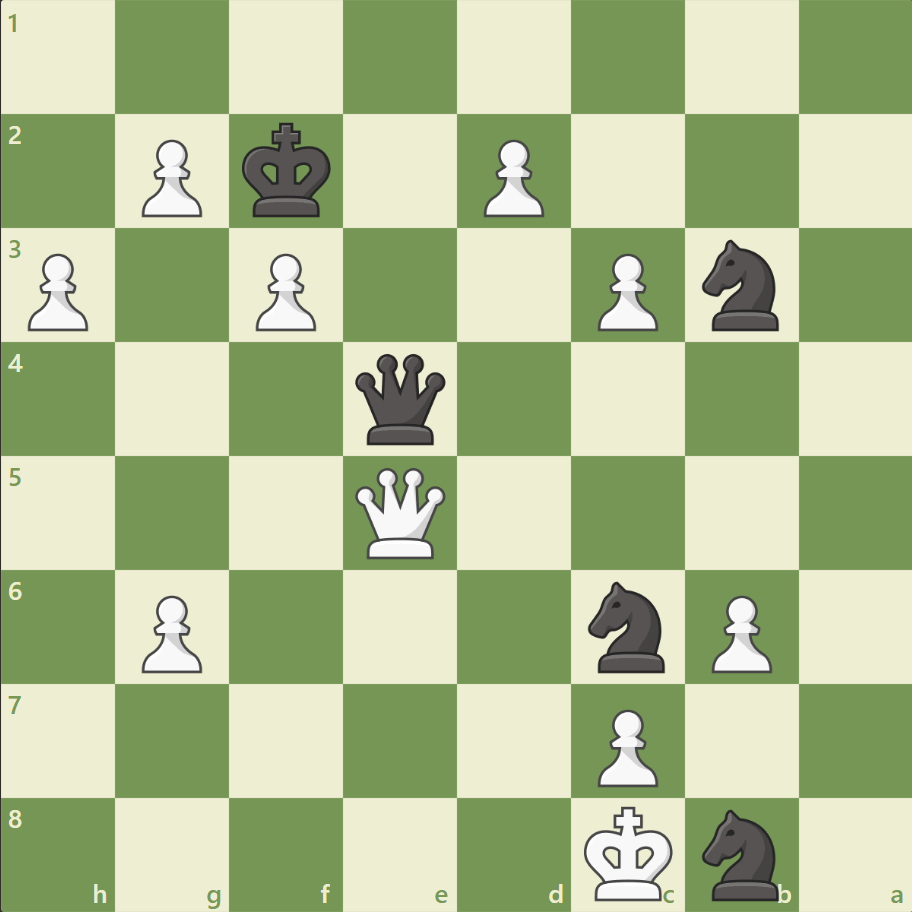K: (579, 798, 679, 906)
P: (701, 586, 776, 677), (133, 586, 208, 677), (247, 246, 322, 337), (20, 246, 95, 337), (474, 132, 549, 223), (133, 132, 208, 223), (588, 700, 662, 791), (588, 246, 662, 337)
Q: (351, 463, 450, 562)
k: (238, 117, 338, 225)
n: (692, 234, 789, 337), (692, 802, 789, 904), (579, 575, 676, 677)
q: (351, 349, 450, 449)
